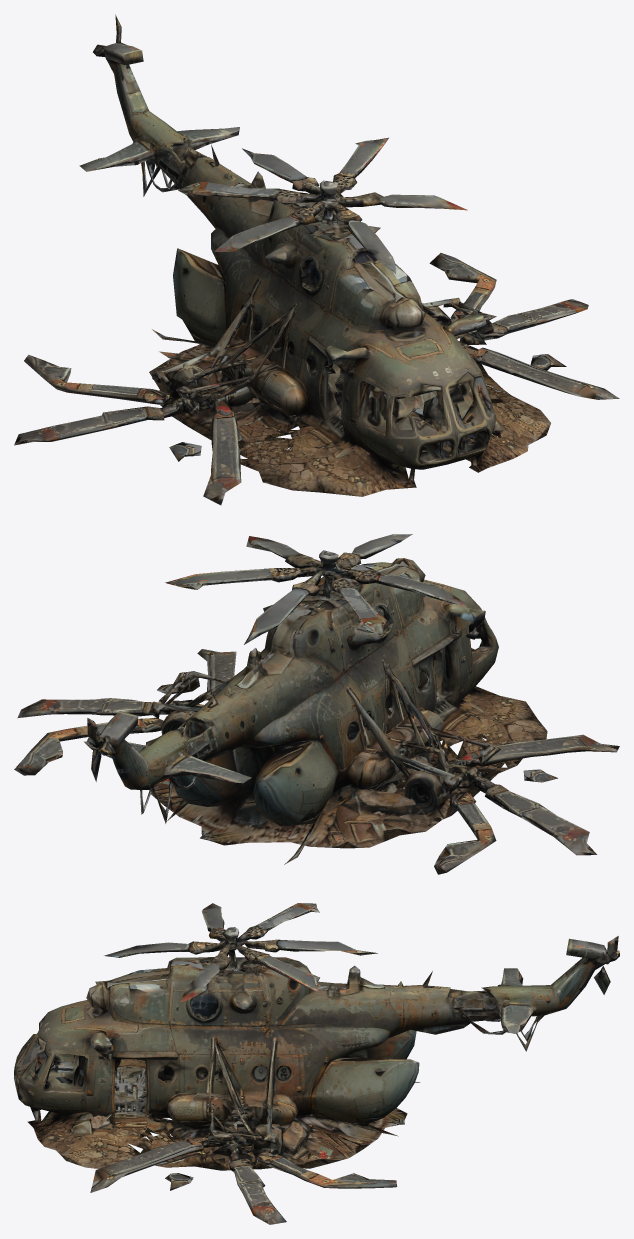
The model's file is Wreck_Mi17.fbx.
3 views of the same model, one above another, from view 1: azimuth 30°, elevation 25°; view 2: azimuth 150°, elevation 25°; view 3: azimuth 270°, elevation 25° (orthographic). The views are drawn at different scales.
Parts seen in each view (by area): view 1: texture_mapping; view 2: texture_mapping; view 3: texture_mapping.
Boxes of the visible parts, x1,y1,x2,y2 form: texture_mapping: [14, 14, 619, 505]; texture_mapping: [14, 534, 619, 874]; texture_mapping: [14, 903, 619, 1224].
Bounding box in the file's own units: 0.9192 × 0.9856 × 0.3299.
Materials: 1 (1 with a texture image).
